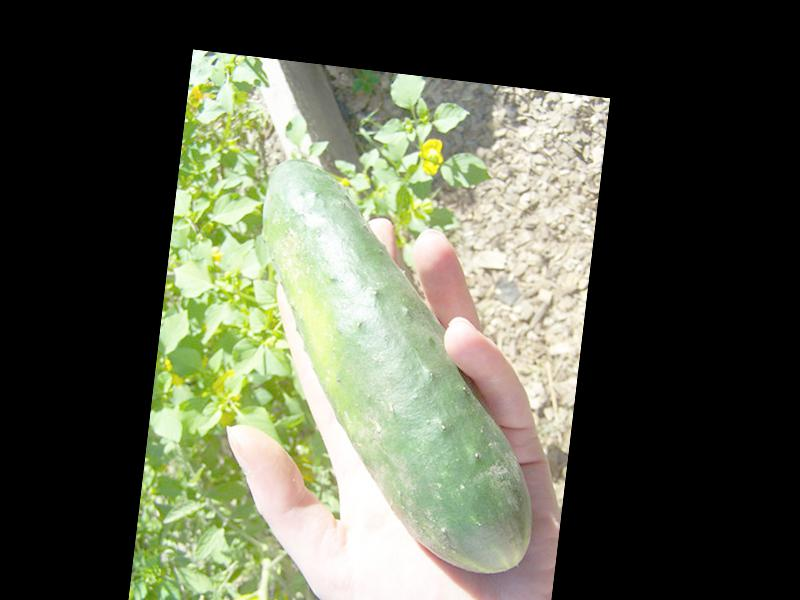Cucumber: (225, 155, 569, 576)
